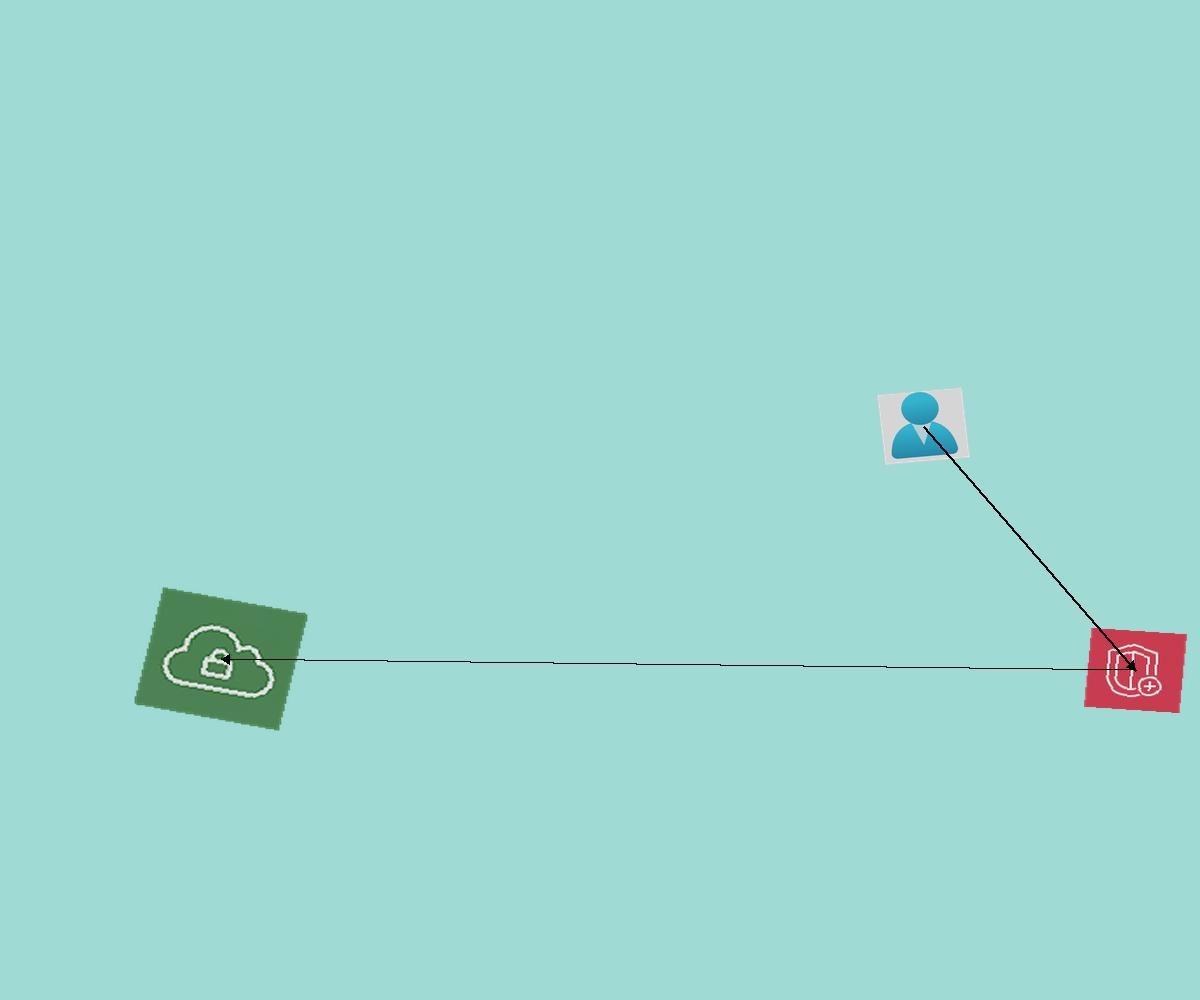AWS-Private_vpc: (133, 586, 309, 732)
AWS-Shield: (1083, 627, 1188, 714)
Azure_users: (877, 387, 970, 465)
